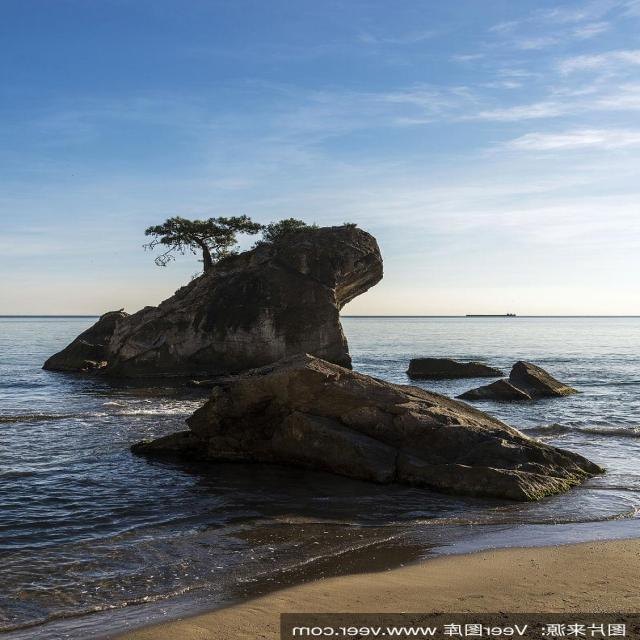reef: (43, 211, 585, 499)
